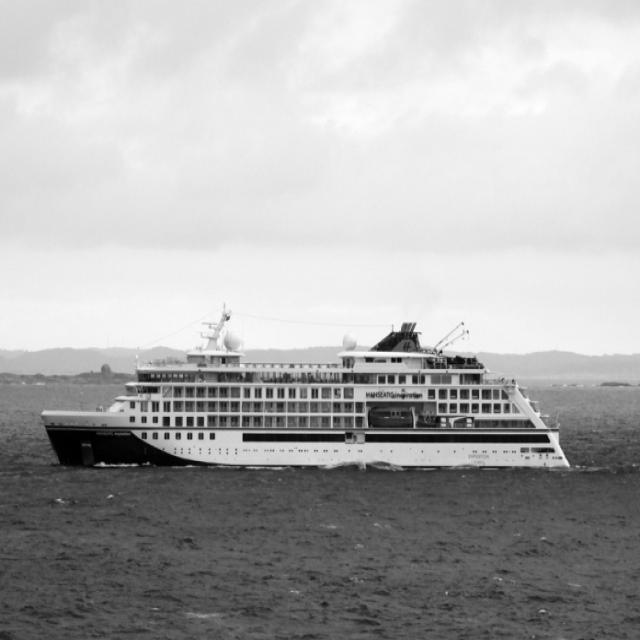cruises: (39, 294, 574, 485)
